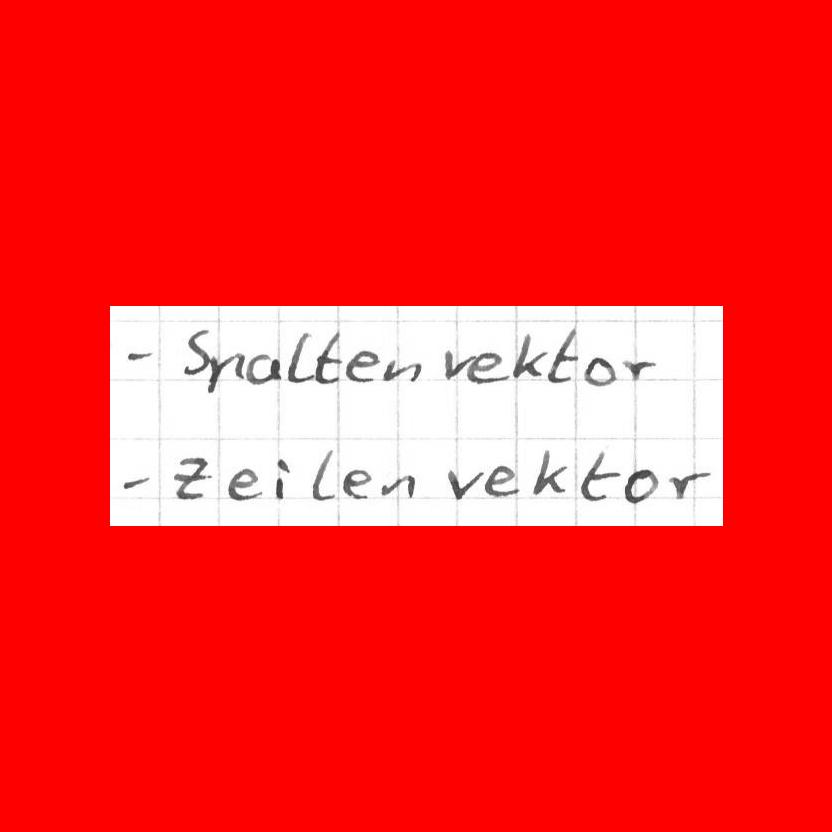Char: (577, 449, 618, 502), (168, 453, 212, 502), (531, 449, 571, 495), (511, 330, 547, 381), (206, 348, 244, 394), (548, 329, 578, 385), (664, 468, 713, 502), (466, 349, 510, 385), (309, 448, 337, 504), (181, 326, 211, 377), (621, 466, 660, 505), (315, 330, 341, 387), (287, 330, 312, 386), (225, 466, 262, 503), (447, 465, 483, 503), (344, 348, 380, 384), (483, 464, 518, 500), (582, 354, 615, 387), (384, 356, 421, 385), (249, 352, 280, 386), (341, 468, 371, 502), (443, 348, 473, 382), (271, 455, 292, 501), (379, 472, 414, 499), (622, 356, 654, 381), (121, 473, 152, 493), (125, 346, 154, 363)
